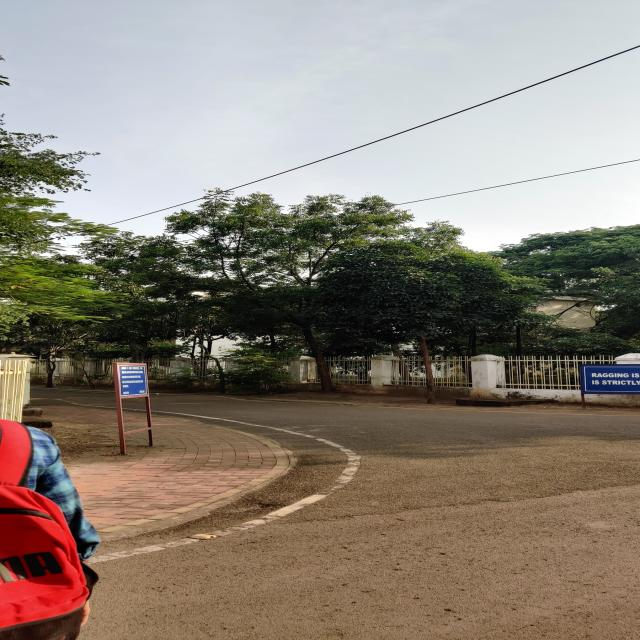Mango Tree: (339, 252, 535, 337), (555, 336, 640, 354)
Neem Tree: (117, 196, 338, 338)
